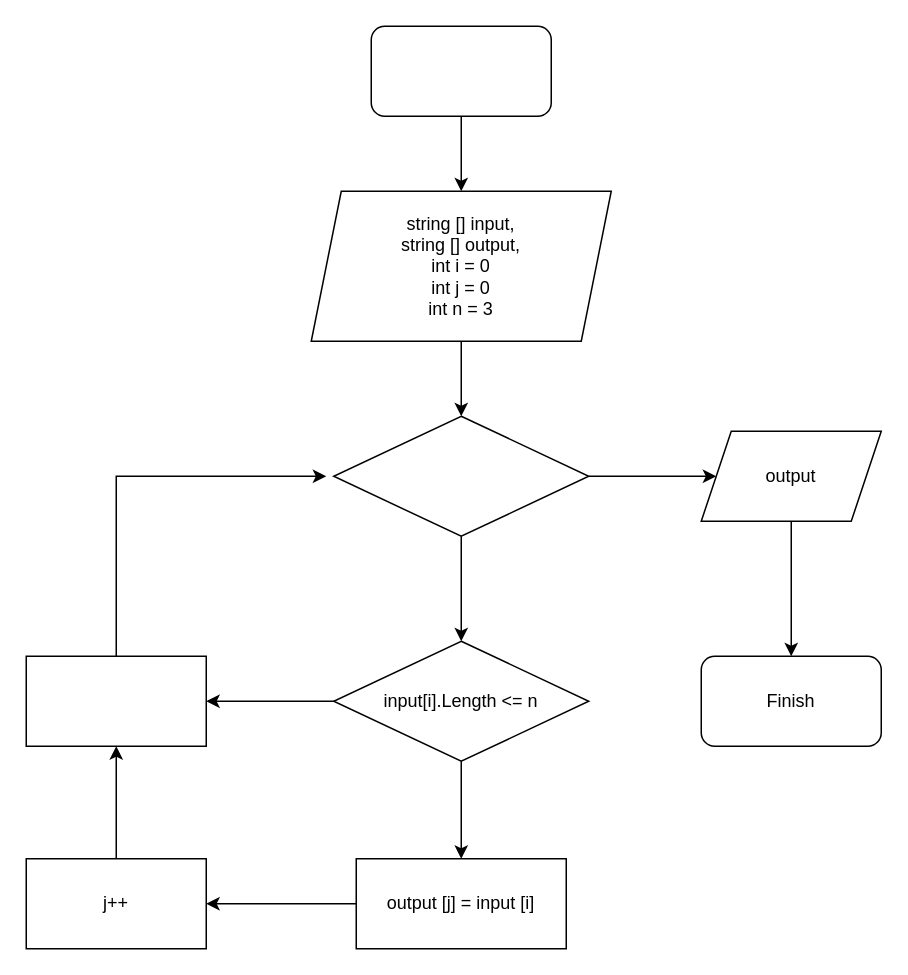
The diagram is 908 pixels wide and 975 high, and some of its shapes have lost their labels. The centre of each missing label's shape, as x and y in pixels:
"i < input.Length" goes at (x=460, y=475).
"i++" goes at (x=115, y=700).
"start" goes at (x=460, y=70).
